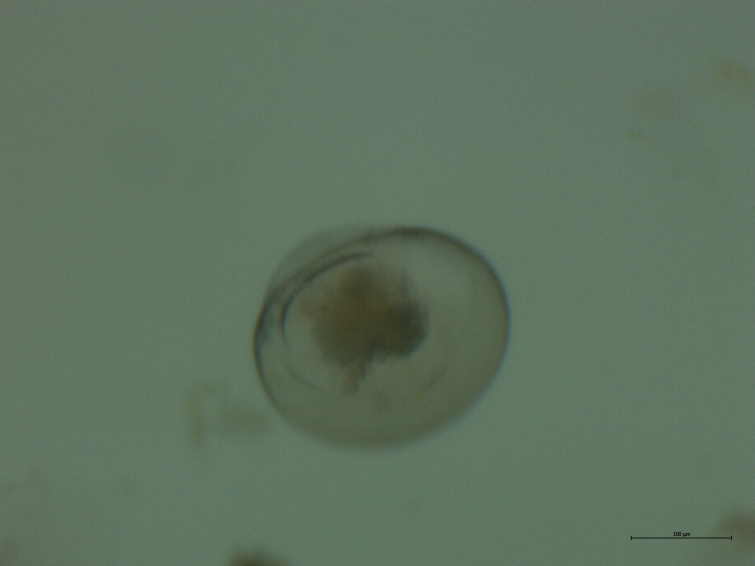oyster: (246, 209, 518, 462)
